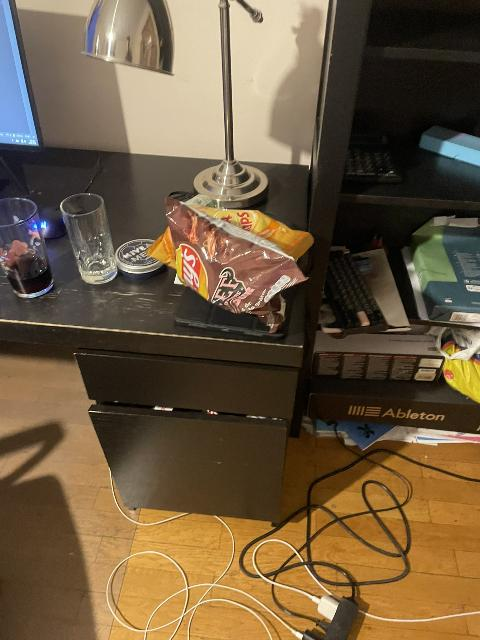Chio Hula Hoops Cheese 70g: (148, 201, 311, 267)
Lays Beef Grilled Ribs 125g: (162, 196, 308, 335)
